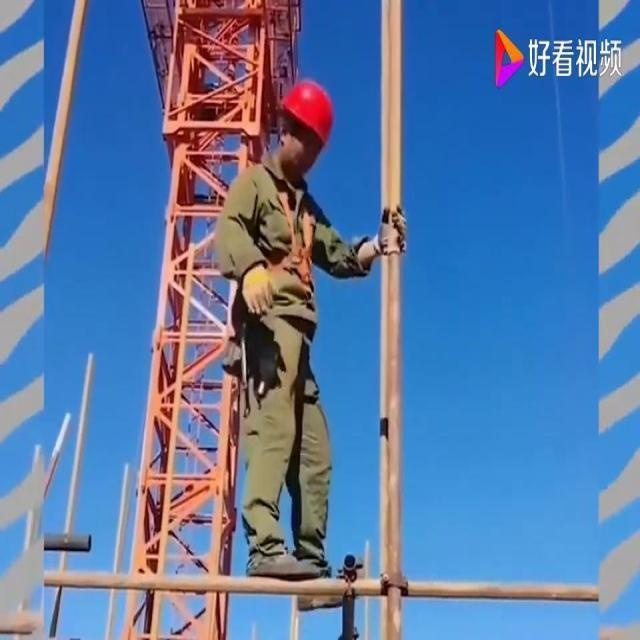Arnes_seguridad: (251, 160, 321, 297)
